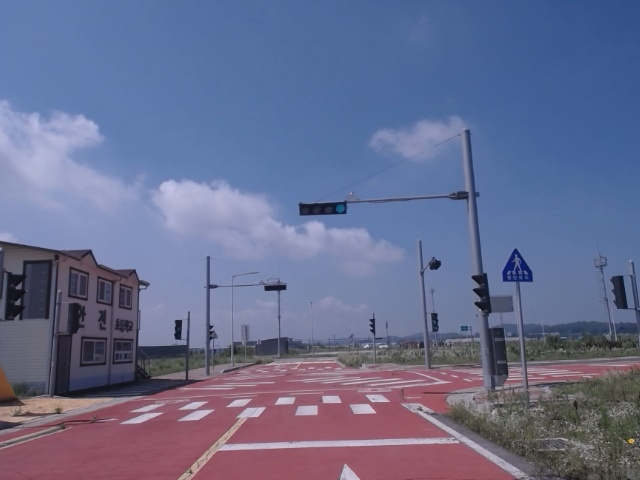straight_green_4: (299, 205, 347, 215)
